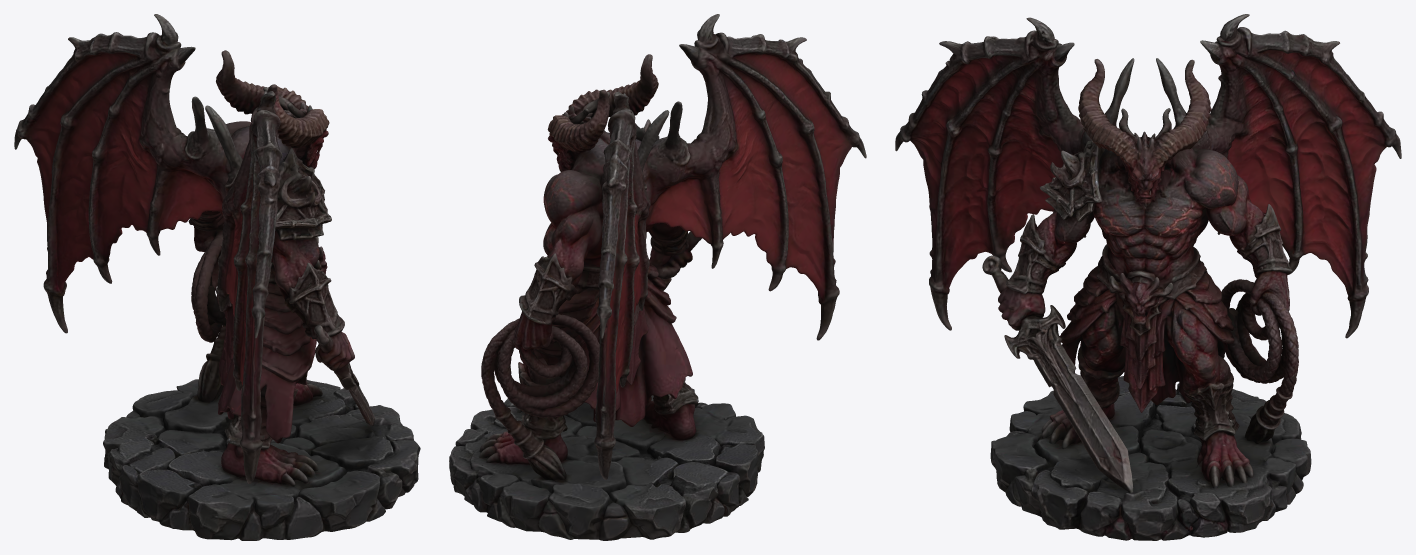
Rendered from compress_eot-w8ytunykzqxn.glb.
3 renders of one model, left to right at view 1: azimuth 30°, elevation 25°; view 2: azimuth 150°, elevation 25°; view 3: azimuth 270°, elevation 25°, orthographic.
Parts seen in each view (by area): view 1: tripo_node_fe655078-9f91-4f3e-9cda-fff52453d040; view 2: tripo_node_fe655078-9f91-4f3e-9cda-fff52453d040; view 3: tripo_node_fe655078-9f91-4f3e-9cda-fff52453d040.
Part boxes in pixels (x1,y1,x2,y2): tripo_node_fe655078-9f91-4f3e-9cda-fff52453d040: (14,14,420,540); tripo_node_fe655078-9f91-4f3e-9cda-fff52453d040: (449,14,866,540); tripo_node_fe655078-9f91-4f3e-9cda-fff52453d040: (895,14,1401,540).
Size of the model in its own units: 0.6069 by 0.952 by 1.
Materials: 1 (1 with a texture image).
